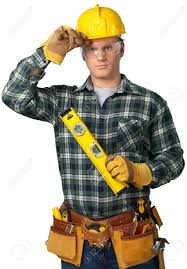hard hat: (75, 4, 127, 40)
